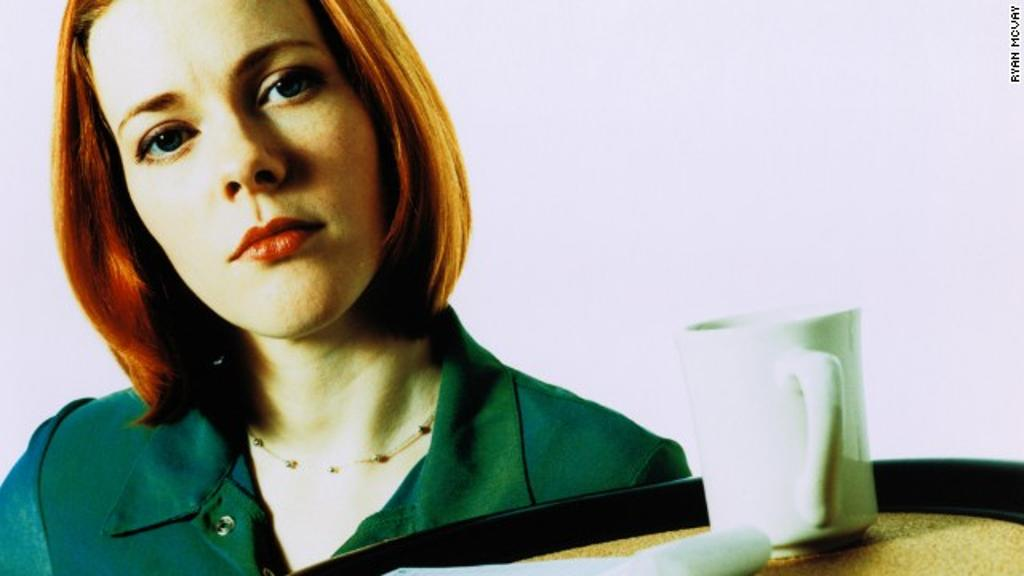face: (80, 6, 382, 334)
